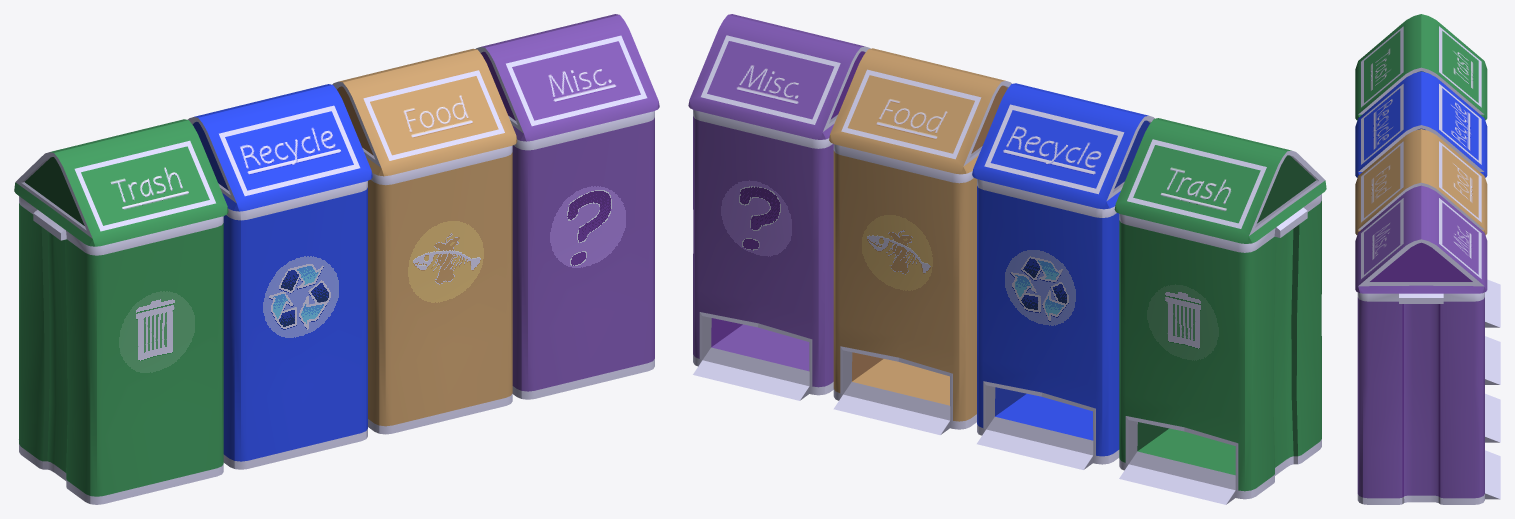
The model's file is trash_bins-B64YMMth.glb.
3 renders of one model, left to right at view 1: azimuth 30°, elevation 25°; view 2: azimuth 150°, elevation 25°; view 3: azimuth 270°, elevation 25°, orthographic. The views are drawn at different scales.
Visible parts, largest first — view 1: Cube.003; view 2: Cube.003; view 3: Cube.003.
Boxes of the visible parts, left/top/right/bottom form: Cube.003: left=14, top=14, right=659, bottom=504; Cube.003: left=688, top=14, right=1326, bottom=504; Cube.003: left=1355, top=14, right=1500, bottom=504.
Bounding box in the file's own units: 9.05 × 4.85 × 2.41.
4 materials, 4 textured.
